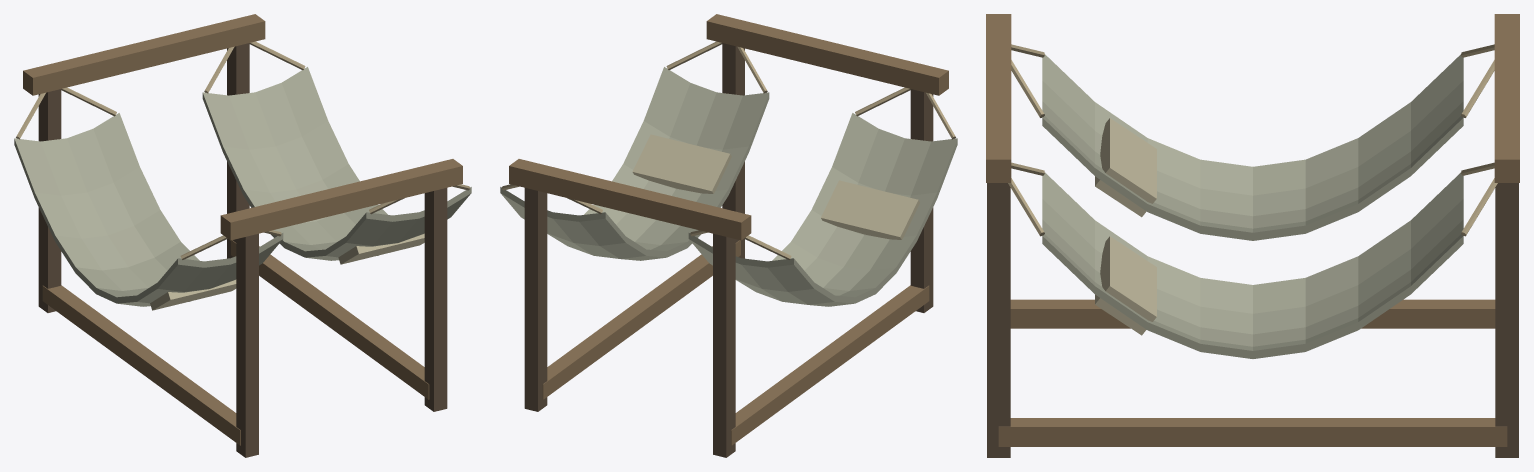
Rendered from S2_HammockRack.fbx.
The picture shows the model from 3 angles, left to right: view 1: azimuth 30°, elevation 25°; view 2: azimuth 150°, elevation 25°; view 3: azimuth 270°, elevation 25°; orthographic projection. The views are drawn at different scales.
Visible parts, largest first — view 1: S2_HammockRack; view 2: S2_HammockRack; view 3: S2_HammockRack.
Part boxes in pixels (x1,y1,x2,y2): S2_HammockRack: [14, 14, 471, 457]; S2_HammockRack: [500, 14, 957, 457]; S2_HammockRack: [986, 14, 1519, 457].
Bounding box in the file's own units: 2.4 × 1.87 × 2.94.
